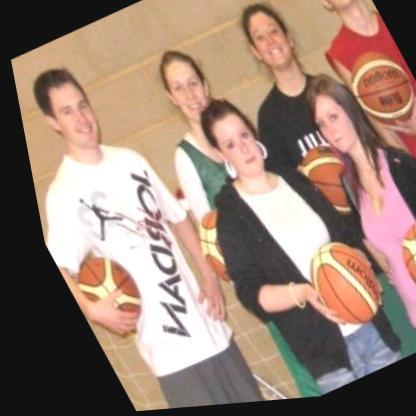basketball: (278, 231, 385, 343), (49, 241, 153, 347), (271, 133, 370, 231), (335, 48, 416, 140), (166, 201, 248, 291), (369, 210, 416, 322)
